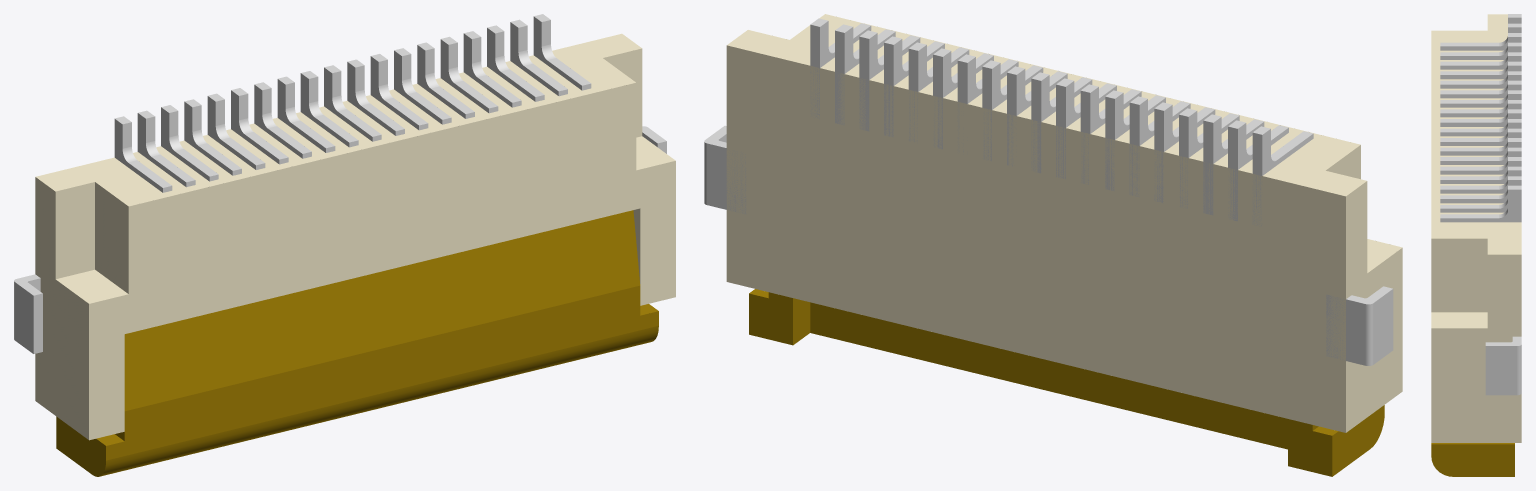
File: Hirose_FH12-19S-0.5SH_1x19-1MP_P0.50mm_Horizontal.glb
The picture shows the model from 3 angles, left to right: view 1: azimuth 30°, elevation 25°; view 2: azimuth 150°, elevation 25°; view 3: azimuth 270°, elevation 25°; orthographic projection. The views are drawn at different scales.
Visible parts, largest first — view 1: Shape_IndexedFaceSet.005, Shape_IndexedFaceSet.023, Shape_IndexedFaceSet.016, Shape_IndexedFaceSet, Shape_IndexedFaceSet.008, Shape_IndexedFaceSet.018, Shape_IndexedFaceSet.007, Shape_IndexedFaceSet.006, Shape_IndexedFaceSet.020, Shape_IndexedFaceSet.014, Shape_IndexedFaceSet.270, Shape_IndexedFaceSet.003 (+1 smaller); view 2: Shape_IndexedFaceSet.001, Shape_IndexedFaceSet.030, Shape_IndexedFaceSet, Shape_IndexedFaceSet.008, Shape_IndexedFaceSet.277, Shape_IndexedFaceSet.027, Shape_IndexedFaceSet.026, Shape_IndexedFaceSet.020, Shape_IndexedFaceSet.268, Shape_IndexedFaceSet.270, Shape_IndexedFaceSet.233, Shape_IndexedFaceSet.149 (+11 smaller); view 3: Shape_IndexedFaceSet.002, Shape_IndexedFaceSet, Shape_IndexedFaceSet.004, Shape_IndexedFaceSet.017, Shape_IndexedFaceSet.261, Shape_IndexedFaceSet.010, Shape_IndexedFaceSet.110, Shape_IndexedFaceSet.102, Shape_IndexedFaceSet.038, Shape_IndexedFaceSet.050, Shape_IndexedFaceSet.058, Shape_IndexedFaceSet.066 (+35 smaller).
Part boxes in pixels (x1,y1,x2,y2): Shape_IndexedFaceSet.005: (89, 83, 675, 440); Shape_IndexedFaceSet.023: (124, 210, 640, 411); Shape_IndexedFaceSet.016: (106, 285, 658, 460); Shape_IndexedFaceSet: (35, 33, 641, 206); Shape_IndexedFaceSet.008: (35, 177, 88, 439); Shape_IndexedFaceSet.018: (99, 326, 658, 476); Shape_IndexedFaceSet.007: (55, 182, 94, 278); Shape_IndexedFaceSet.006: (95, 182, 128, 293); Shape_IndexedFaceSet.020: (56, 416, 105, 476); Shape_IndexedFaceSet.014: (56, 269, 128, 303); Shape_IndexedFaceSet.270: (14, 282, 33, 353); Shape_IndexedFaceSet.003: (603, 48, 642, 137); Shape_IndexedFaceSet.001: (726, 45, 1345, 432); Shape_IndexedFaceSet.030: (810, 302, 1287, 449); Shape_IndexedFaceSet: (727, 14, 1366, 196); Shape_IndexedFaceSet.008: (1346, 181, 1402, 432); Shape_IndexedFaceSet.277: (1326, 294, 1365, 365); Shape_IndexedFaceSet.027: (1288, 419, 1332, 476); Shape_IndexedFaceSet.026: (749, 292, 792, 345); Shape_IndexedFaceSet.020: (1332, 405, 1384, 476); Shape_IndexedFaceSet.268: (707, 143, 746, 213); Shape_IndexedFaceSet.270: (1373, 289, 1393, 364); Shape_IndexedFaceSet.233: (859, 36, 869, 131); Shape_IndexedFaceSet.149: (1203, 120, 1213, 215); Shape_IndexedFaceSet.002: (1431, 254, 1521, 442); Shape_IndexedFaceSet: (1431, 14, 1521, 254); Shape_IndexedFaceSet.004: (1431, 238, 1487, 312); Shape_IndexedFaceSet.017: (1431, 444, 1514, 476); Shape_IndexedFaceSet.261: (1485, 346, 1516, 395); Shape_IndexedFaceSet.010: (1431, 312, 1487, 328); Shape_IndexedFaceSet.110: (1440, 189, 1521, 222); Shape_IndexedFaceSet.102: (1440, 170, 1521, 203); Shape_IndexedFaceSet.038: (1440, 17, 1521, 50); Shape_IndexedFaceSet.050: (1440, 46, 1521, 79); Shape_IndexedFaceSet.058: (1440, 65, 1521, 98); Shape_IndexedFaceSet.066: (1440, 84, 1521, 117).
Size of the model in its own units: 5.35 by 2.52 by 0.7874.
